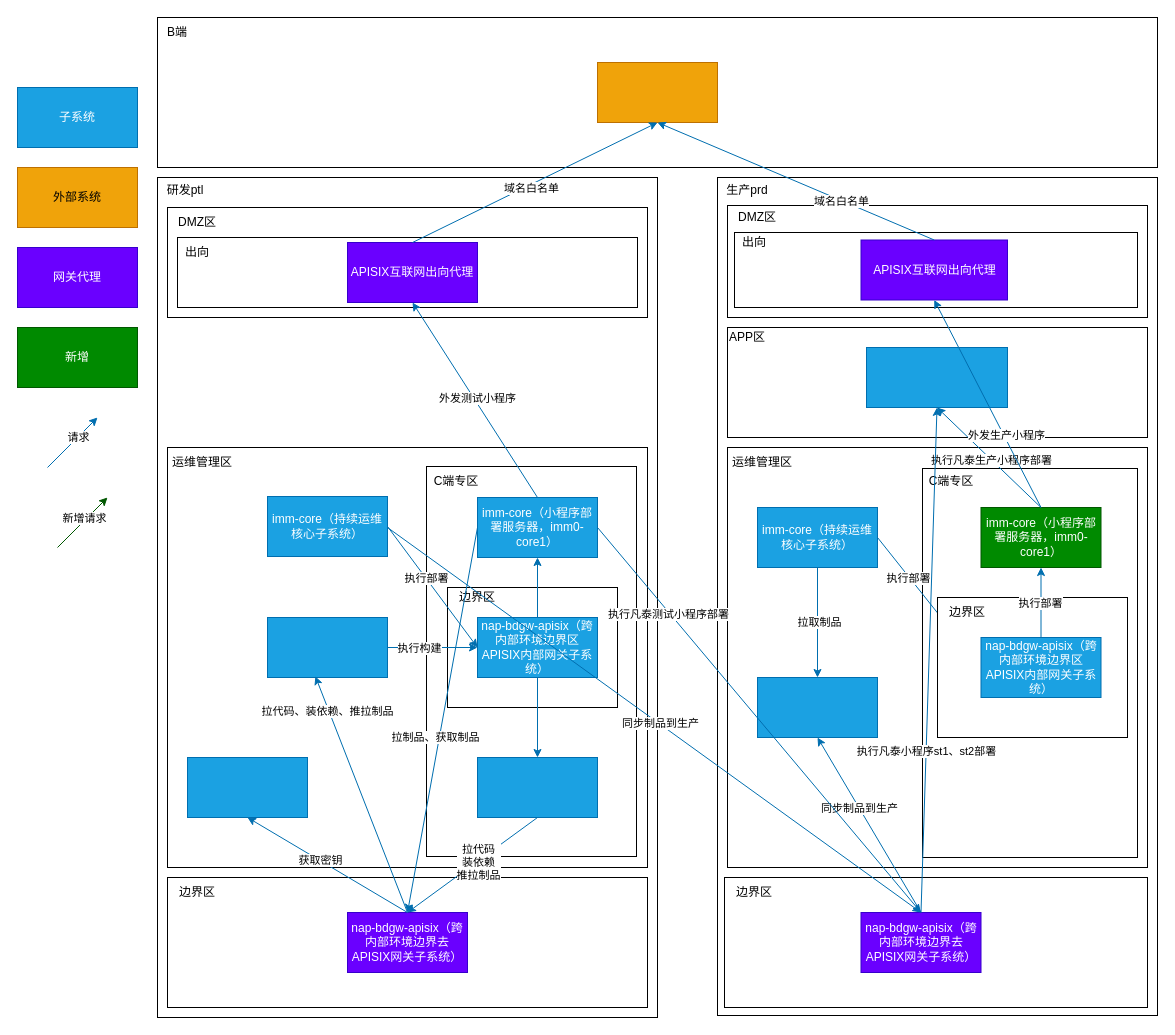
This 1175x1035 diagram has some shape labels left out. The shapes that lost their labels are listed below. From the top down, each one's centre as x and y in pixels, then its label:
pixel 657 92: 外部小程序平台
pixel 937 377: mdp-finclip-oms 凡泰小程序管理端子系统
pixel 327 647: omm-coding-core（持续集成coding子系统）
pixel 817 707: minio
pixel 247 787: kms-oms（密钥管理后端子系统）
pixel 537 787: omm-coding-core（coding在C端专区的构建节点池）
